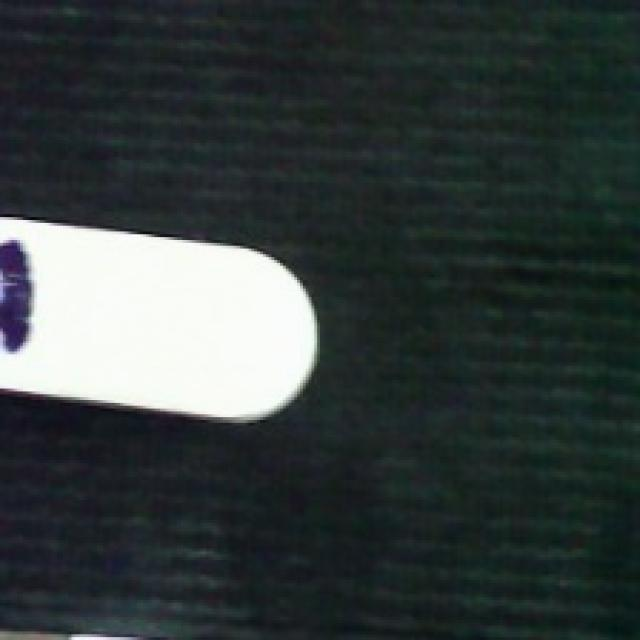defected: (0, 214, 320, 423)
